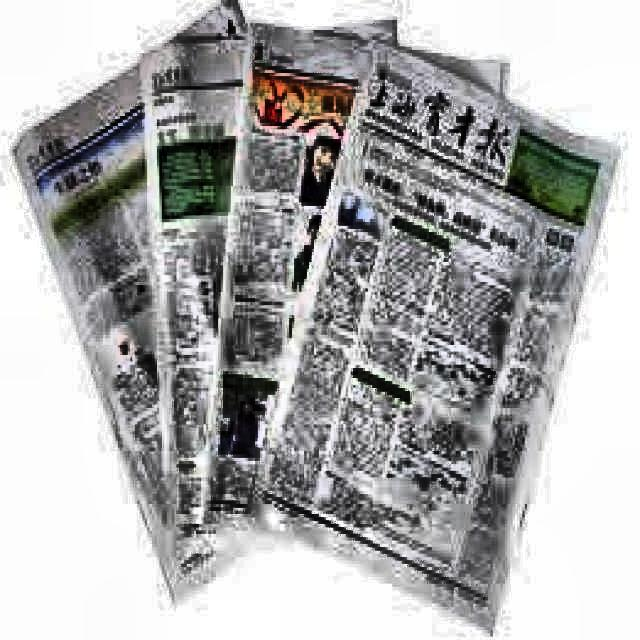Paper: (243, 34, 615, 634), (10, 0, 353, 607), (201, 27, 505, 567), (137, 13, 395, 557)
